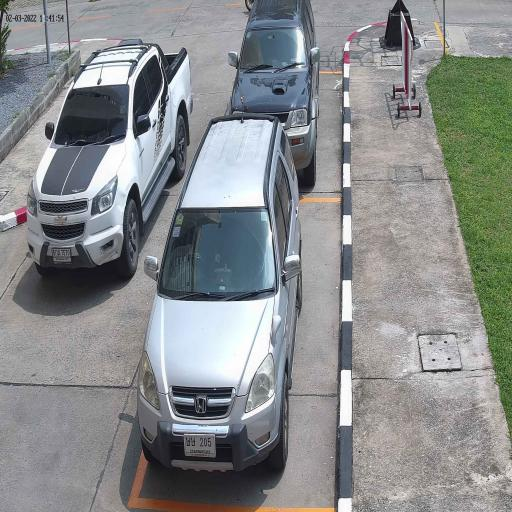car: (137, 112, 304, 484), (25, 37, 195, 279), (227, 0, 321, 188)
